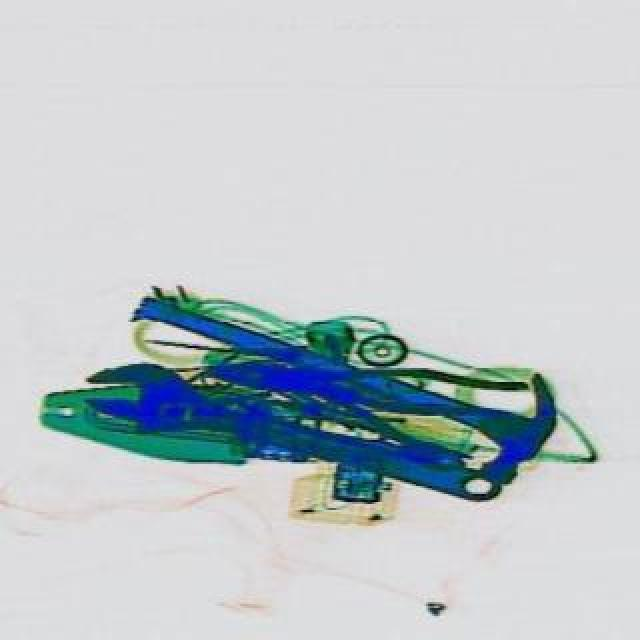scissors: (70, 344, 506, 524)
wrench: (202, 342, 526, 422)
